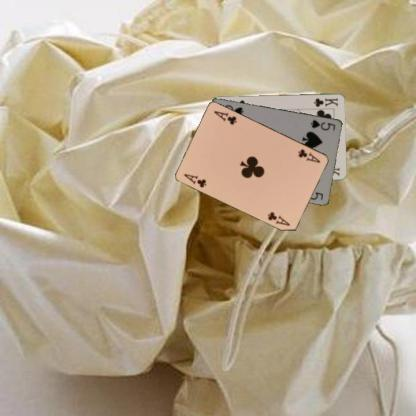5s: (308, 117, 337, 132)
Ac: (181, 171, 208, 189), (296, 146, 322, 164)
Kc: (312, 95, 339, 108)
